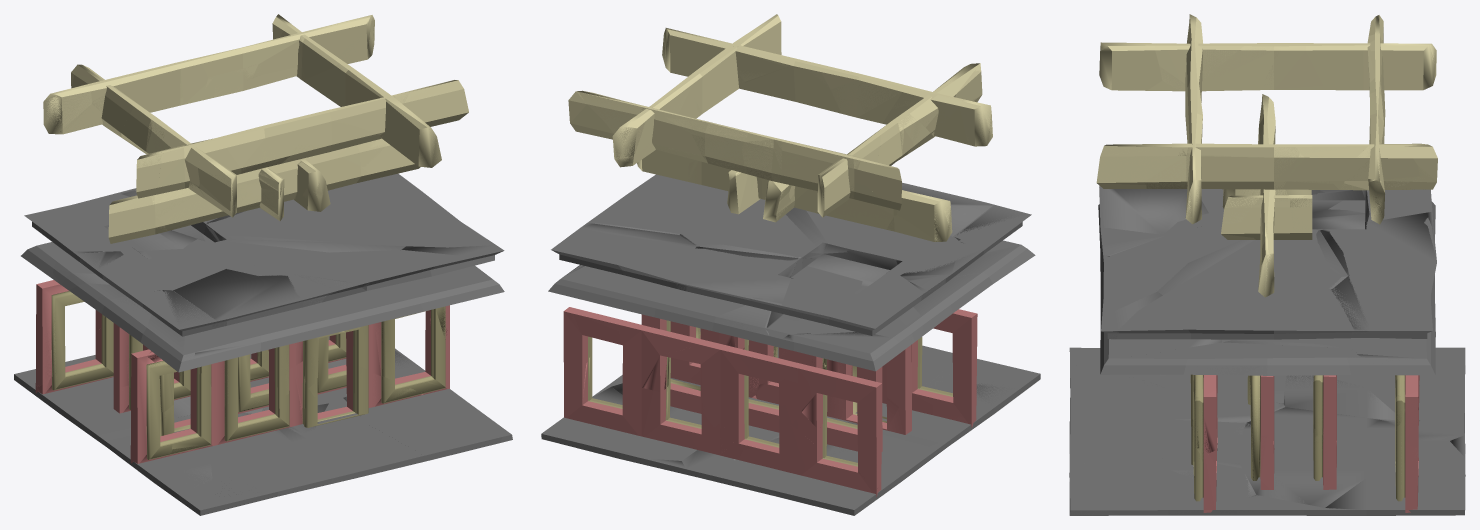
Rendered from Home копия 5 копия.fbx.
3 views of the same model, side by side, from view 1: azimuth 30°, elevation 25°; view 2: azimuth 150°, elevation 25°; view 3: azimuth 270°, elevation 25° (orthographic). The views are drawn at different scales.
Parts seen in each view (by area): view 1: Roof, Floor, Panel3WindowsDoor, Foundation, Fence.004, Fence.003, Balcony.001, Roof_cell.003, Fence.001, Panel4Windows, Fence.002, Panel4Windows_cell.001 (+54 smaller); view 2: Roof, Panel4Windows, Floor, Foundation, Fence.003, Fence.004, Balcony.001, Panel3Windows, Fence.002, Panel2WindowsDoor, Foundation_cell.006, Panel4Windows_cell.002 (+52 smaller); view 3: Roof, Floor, Fence.001, Fence.002, Foundation, Floor_cell.006, Roof_cell.003, Balcony.002, Floor_cell.008, Panel4Windows, Fence.004, Fence.002_cell.002 (+47 smaller).
Part boxes in pixels (x1,y1,x2,y2): Roof: (26, 173, 504, 336); Floor: (14, 336, 511, 515); Panel3WindowsDoor: (130, 305, 449, 463); Foundation: (36, 233, 504, 372); Fence.004: (136, 80, 468, 198); Fence.003: (43, 15, 374, 134); Balcony.001: (109, 139, 420, 243); Roof_cell.003: (173, 269, 336, 327); Fence.001: (272, 14, 441, 167); Panel4Windows: (35, 280, 142, 394); Fence.002: (71, 64, 236, 217); Panel4Windows_cell.001: (35, 284, 110, 385); Roof: (551, 174, 1031, 335); Panel4Windows: (563, 307, 881, 496); Floor: (541, 328, 1040, 514); Foundation: (561, 240, 1035, 370); Fence.003: (568, 90, 901, 210); Fence.004: (662, 28, 992, 146); Balcony.001: (642, 149, 952, 241); Panel3Windows: (641, 314, 882, 451); Fence.002: (817, 63, 981, 217); Panel2WindowsDoor: (671, 321, 911, 434); Foundation_cell.006: (782, 332, 905, 371); Panel4Windows_cell.002: (728, 415, 881, 492); Roof: (1099, 186, 1436, 339); Floor: (1069, 347, 1465, 515); Fence.001: (1096, 143, 1437, 190); Fence.002: (1100, 43, 1436, 91); Foundation: (1098, 200, 1435, 375); Floor_cell.006: (1243, 407, 1395, 507); Roof_cell.003: (1099, 186, 1208, 234); Balcony.002: (1221, 195, 1312, 239); Floor_cell.008: (1283, 375, 1395, 421); Panel4Windows: (1395, 375, 1419, 512); Fence.004: (1185, 14, 1202, 224); Fence.002_cell.002: (1099, 42, 1162, 90).
Bounding box in the file's own units: 1277 × 1165 × 1240.
